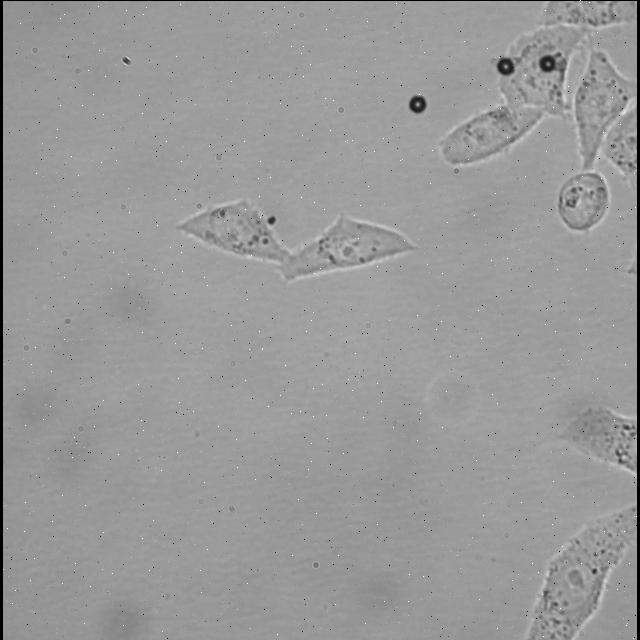microbeads: (492, 54, 520, 78), (408, 92, 430, 116), (539, 52, 559, 74)
